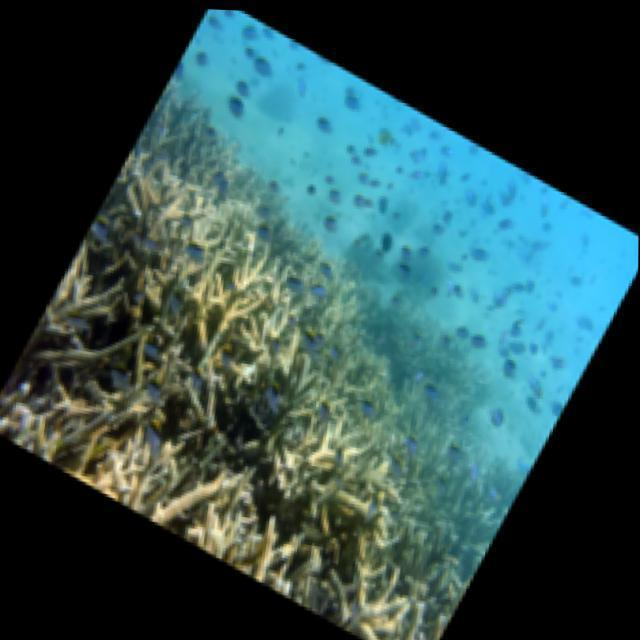Dead Coral: (28, 237, 439, 591)
